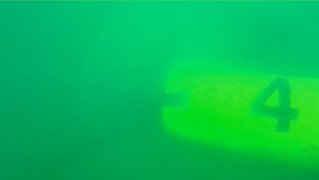4: (251, 77, 300, 134)
pipe: (161, 59, 319, 168)
